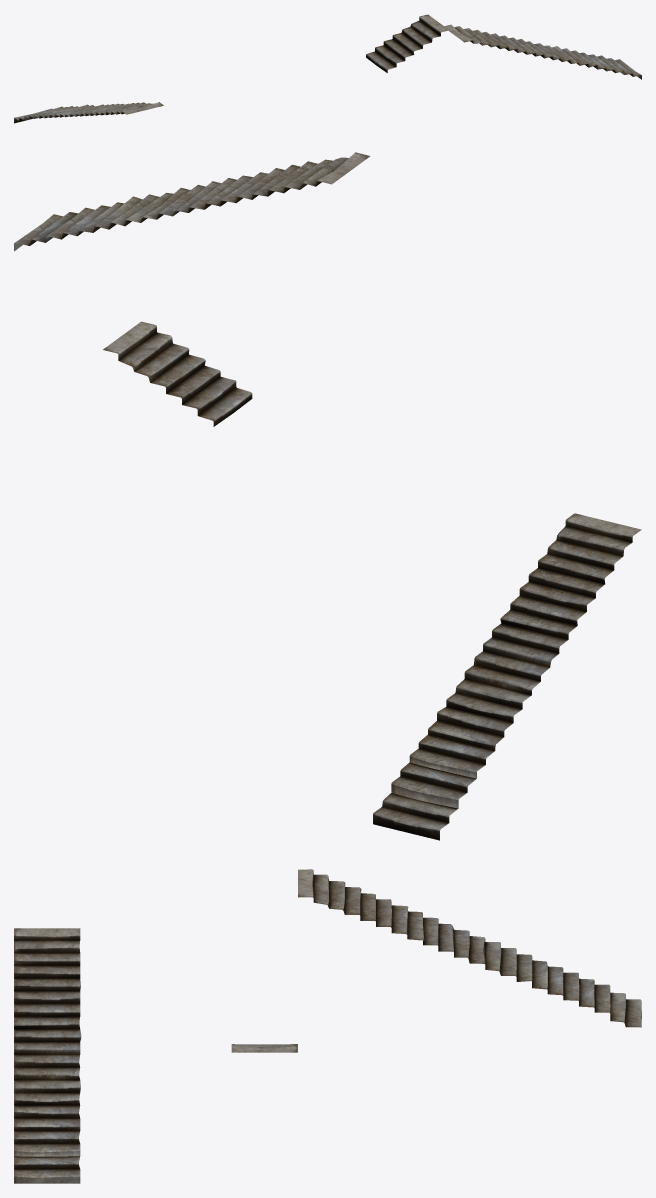
File: A2_Stairs.FBX
3 renders of one model, top to bottom at view 1: azimuth 30°, elevation 25°; view 2: azimuth 150°, elevation 25°; view 3: azimuth 270°, elevation 25°, orthographic. The views are drawn at different scales.
Visible parts, largest first — view 1: A2_Stairs_03; view 2: A2_Stairs_03; view 3: A2_Stairs_03.
Boxes of the visible parts, bbox=[...] form: A2_Stairs_03: bbox=[14, 14, 641, 123]; A2_Stairs_03: bbox=[14, 152, 641, 840]; A2_Stairs_03: bbox=[14, 869, 641, 1183].
Size of the model in its own units: 1566 by 609 by 1323.
